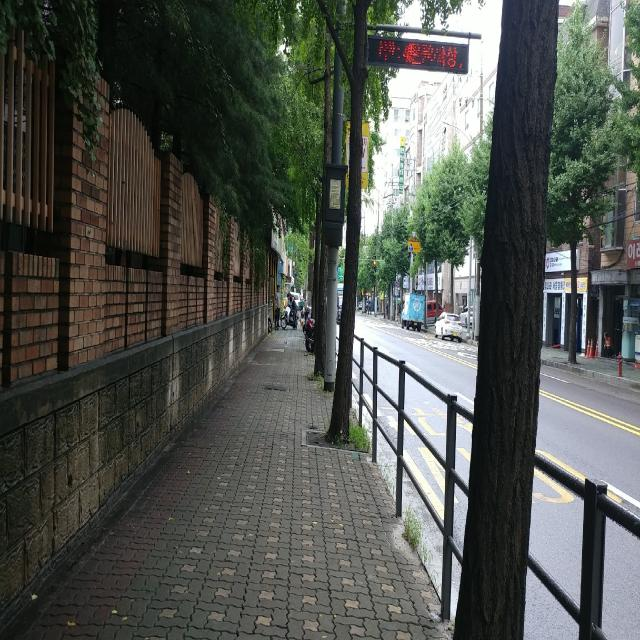car: (401, 293, 425, 332), (434, 312, 462, 342)
motorbike: (280, 301, 304, 330), (303, 309, 315, 351)
